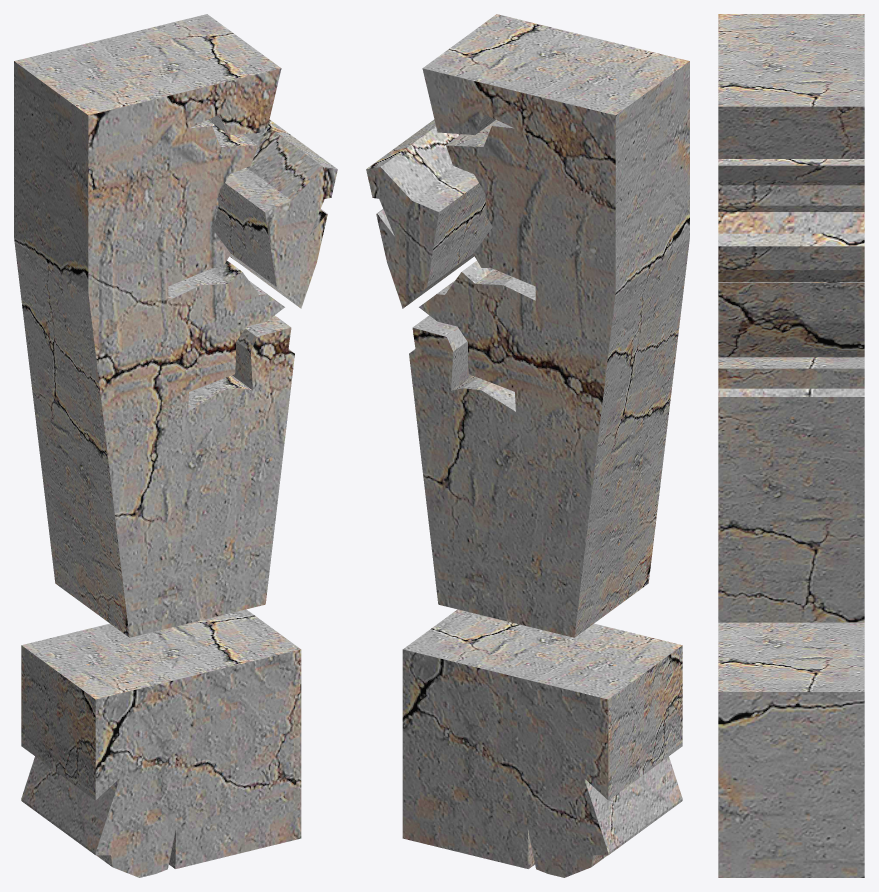
Rendered from Exclamation.FBX.
3 views of the same model, side by side, from view 1: azimuth 30°, elevation 25°; view 2: azimuth 150°, elevation 25°; view 3: azimuth 270°, elevation 25° (orthographic).
Parts seen in each view (by area): view 1: Exclamation; view 2: Exclamation; view 3: Exclamation.
Boxes of the visible parts, <box> form: Exclamation: <box>14,14,337,877</box>; Exclamation: <box>366,14,689,877</box>; Exclamation: <box>718,14,864,877</box>.
Size of the model in its own units: 29.1 by 86.36 by 15.
Materials: 1 (1 with a texture image).
